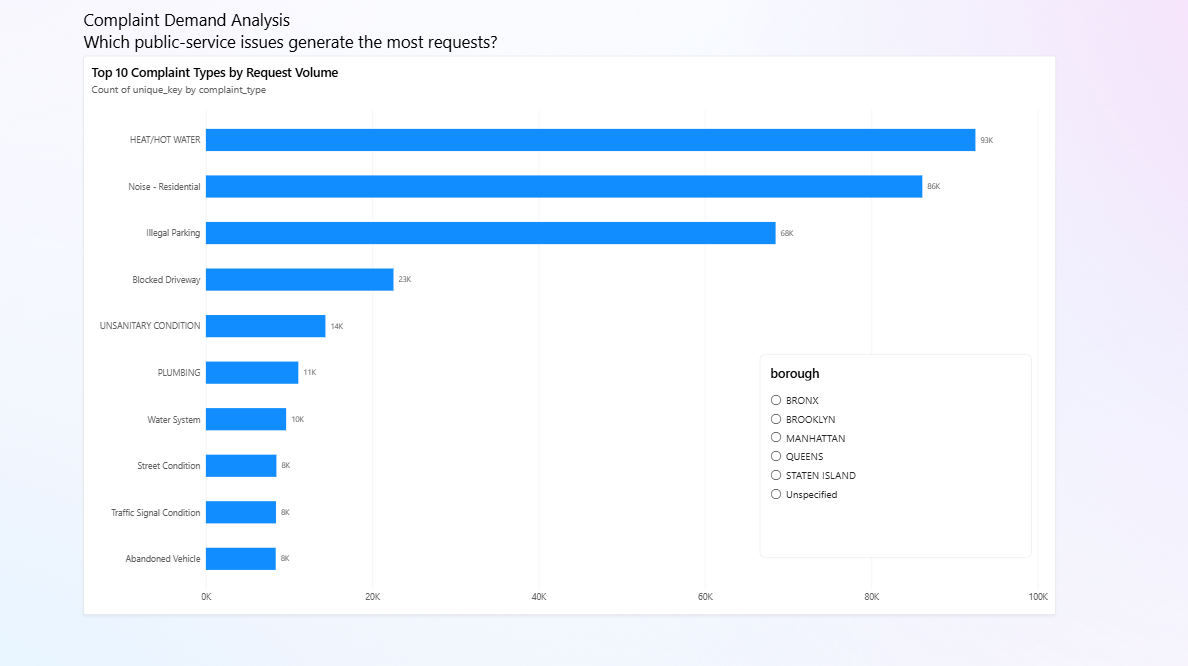

Layout of this report page (visuals, bound fields, positions):
{"tool":"powerbi","page":{"name":"Complaint Analysis","canvas":[1920,1080],"ordinal":1},"visuals":[{"type":"clusteredBarChart","title":"Top 10 Complaint Types by Request Volume","fields":{"Category":["ServiceRequests.complaint_type"],"Y":["Count(ServiceRequests.unique_key)"]},"box":[140,94,1556,894],"z":0},{"type":"textbox","box":[140,17.5,1780,970],"z":1},{"type":"listSlicer","fields":{"Values":["ServiceRequests.borough"]},"box":[1222.5,572.5,435,325],"z":2}]}

Visuals, with their boxes in screenshot pixels (x1, y1, x2, y2), scaled from the page's 1920x1080 canvas onto the 1188x666 screenshot:
"Top 10 Complaint Types by Request Volume" clusteredBarChart: 87 58 1049 609
textbox: 87 11 1187 609
listSlicer - ServiceRequests.borough: 756 353 1026 553
